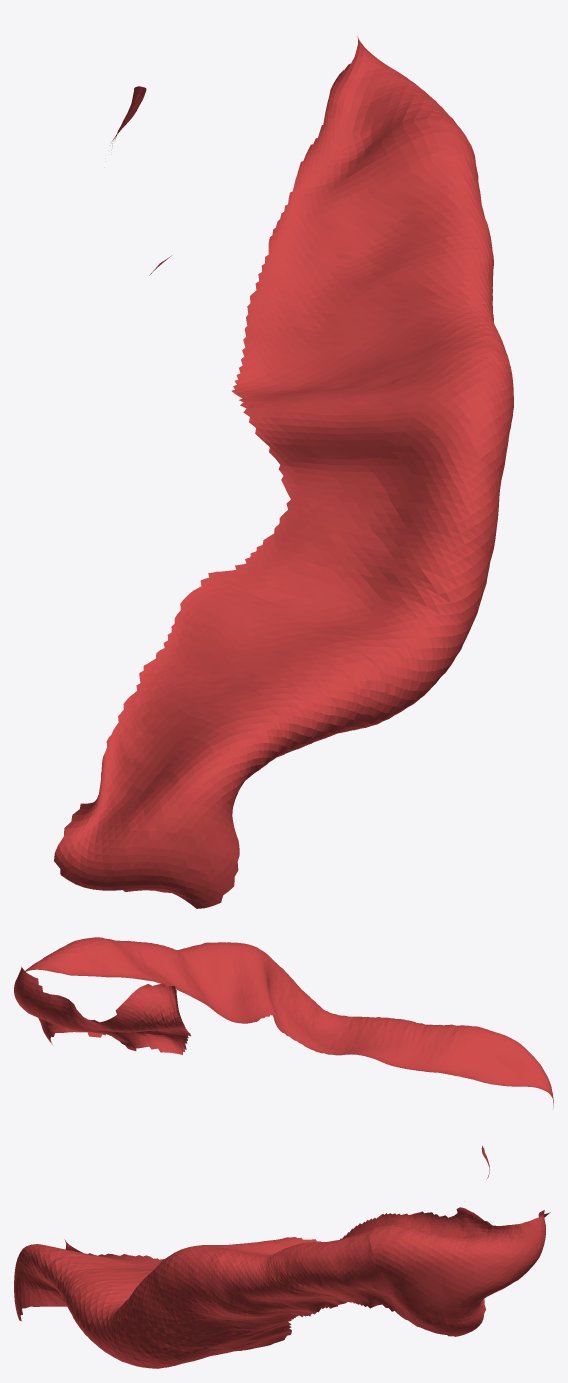
File: rh_postcentral.glb
3 renders of one model, top to bottom at view 1: azimuth 30°, elevation 25°; view 2: azimuth 150°, elevation 25°; view 3: azimuth 270°, elevation 25°, orthographic. The views are drawn at different scales.
Visible parts, largest first — view 1: world; view 2: world; view 3: world.
Part boxes in pixels (x1,y1,x2,y2): world: (54, 36, 513, 908); world: (14, 937, 553, 1107); world: (14, 1145, 550, 1368).
Bounding box in the file's own units: 66.49 × 39.46 × 72.68.
